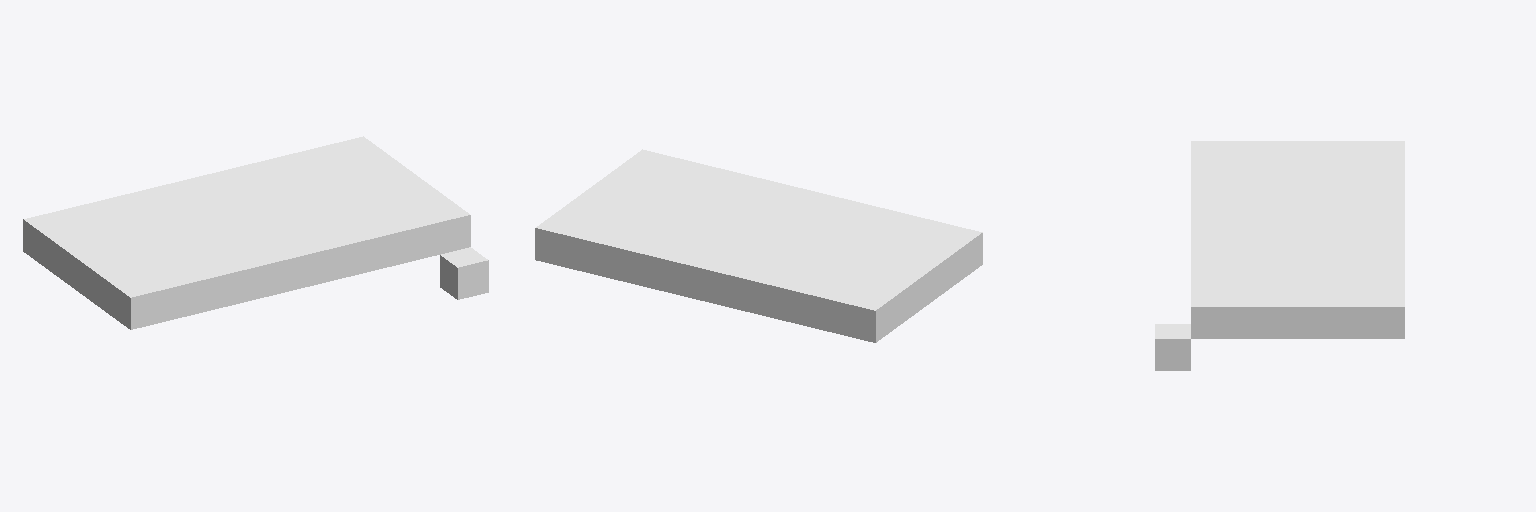
File: Kitchen-1-Rug.obj
3 renders of one model, left to right at view 1: azimuth 30°, elevation 25°; view 2: azimuth 150°, elevation 25°; view 3: azimuth 270°, elevation 25°, orthographic.
Visible parts, largest first — view 1: Rug; view 2: Rug; view 3: Rug.
Part boxes in pixels (bbox=[...]): Rug: bbox=[23, 136, 488, 329]; Rug: bbox=[535, 149, 982, 342]; Rug: bbox=[1155, 141, 1404, 370].
Bounding box in the file's own units: 1.1 × 0.2 × 0.7.